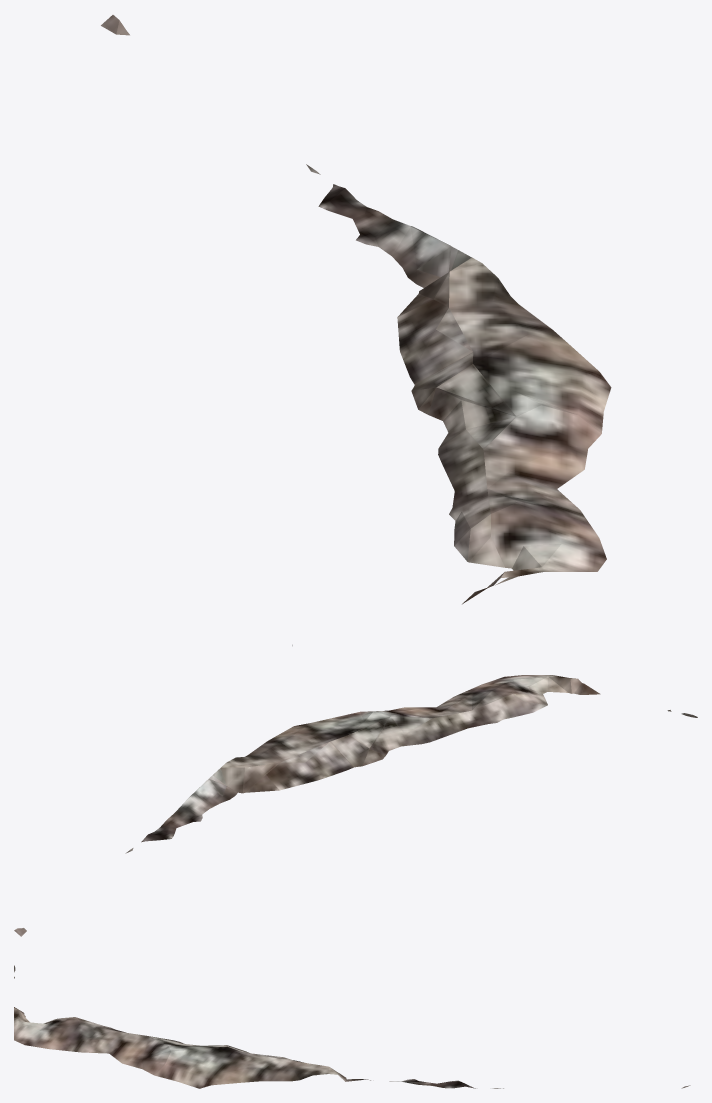
The picture shows the model from 3 angles, top to bottom: view 1: azimuth 30°, elevation 25°; view 2: azimuth 150°, elevation 25°; view 3: azimuth 270°, elevation 25°; orthographic projection. The views are drawn at different scales.
Size of the model in its own units: 1.43 by 0.0811 by 3.35.
1 material, 1 textured.
